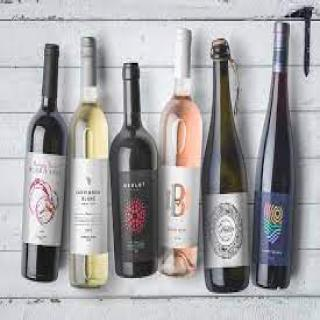GLASS: (199, 28, 251, 298), (253, 16, 298, 290), (66, 27, 112, 293), (20, 38, 70, 278), (157, 18, 201, 280), (110, 49, 158, 278)
